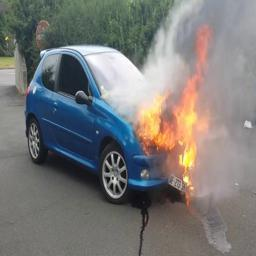fire: (139, 25, 209, 192)
